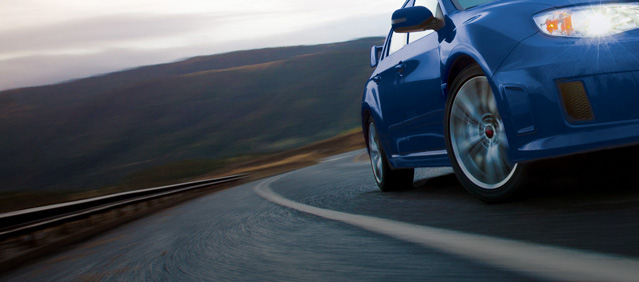Carro: (358, 1, 639, 225)
